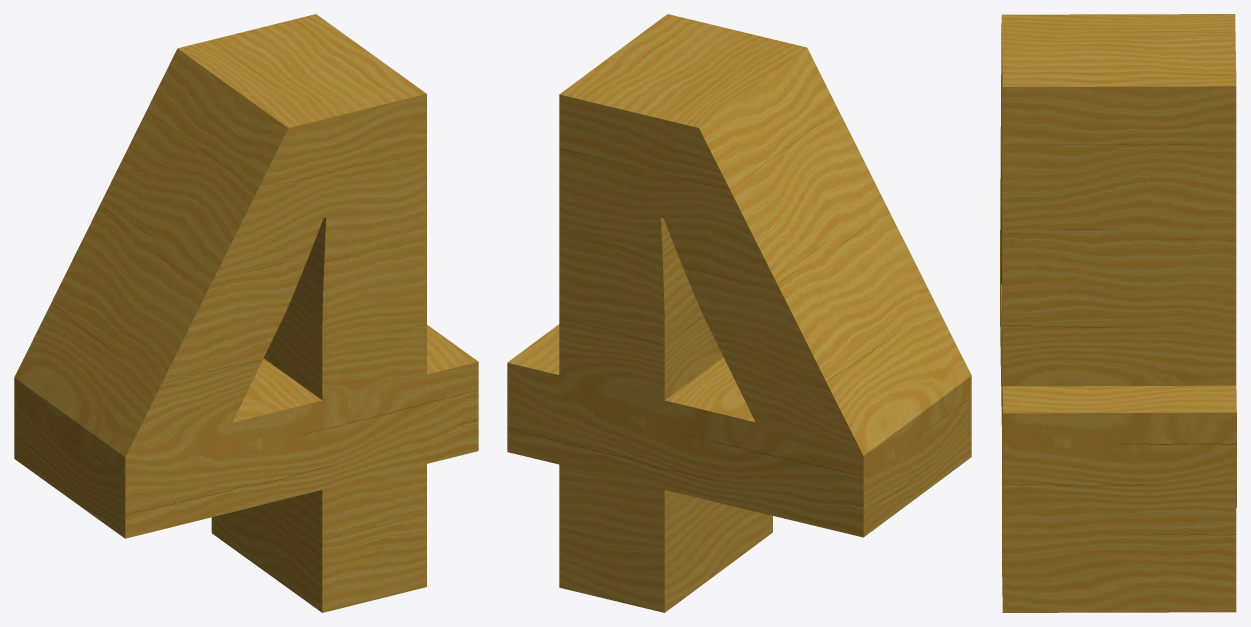
The model's file is MounTripElement_4.glb.
The picture shows the model from 3 angles, left to right: view 1: azimuth 30°, elevation 25°; view 2: azimuth 150°, elevation 25°; view 3: azimuth 270°, elevation 25°; orthographic projection. The views are drawn at different scales.
Parts seen in each view (by area): view 1: 3D 4 - 4; view 2: 3D 4 - 4; view 3: 3D 4 - 4.
Boxes of the visible parts, x1,y1,x2,y2 form: 3D 4 - 4: (14, 14, 478, 612); 3D 4 - 4: (507, 14, 971, 612); 3D 4 - 4: (1000, 14, 1236, 612).
Size of the model in its own units: 0.0282 by 0.0373 by 0.0152.
Materials: 1 (1 with a texture image).
